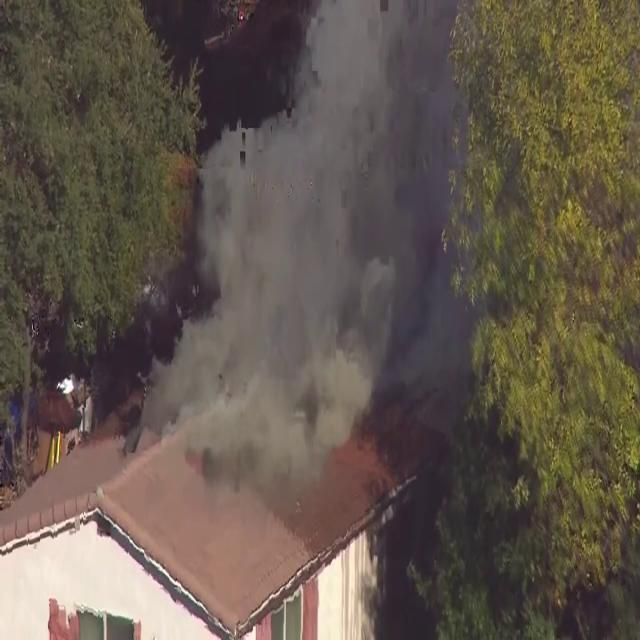Smoke: (152, 1, 449, 503)
